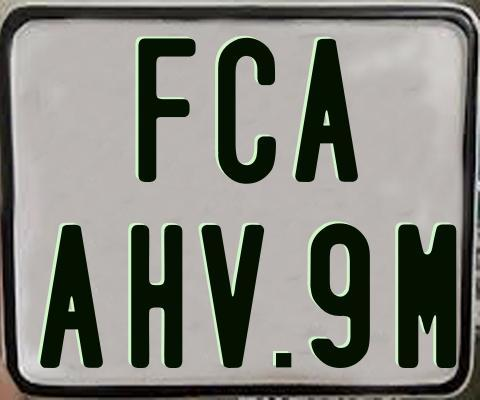9: (309, 223, 375, 372)
A: (40, 225, 109, 373), (293, 37, 361, 186)
C: (215, 37, 277, 189)
F: (136, 37, 196, 187)
H: (131, 224, 184, 367)
M: (396, 223, 455, 370)
V: (199, 223, 262, 366)
